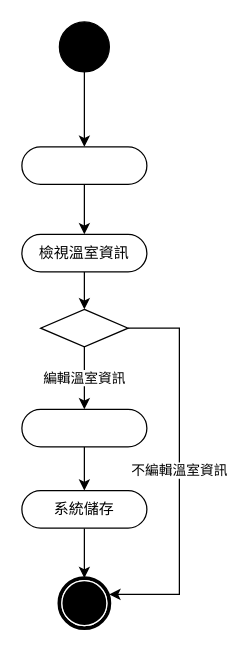
This 249x650 diagram has some shape labels left out. The shapes that lost their labels are listed below. From the top down, each one's centre as x and y in pixels, then its label:
At point 84,165: "點選溫室資訊管理".
At point 84,427: "輸入溫室資訊".
